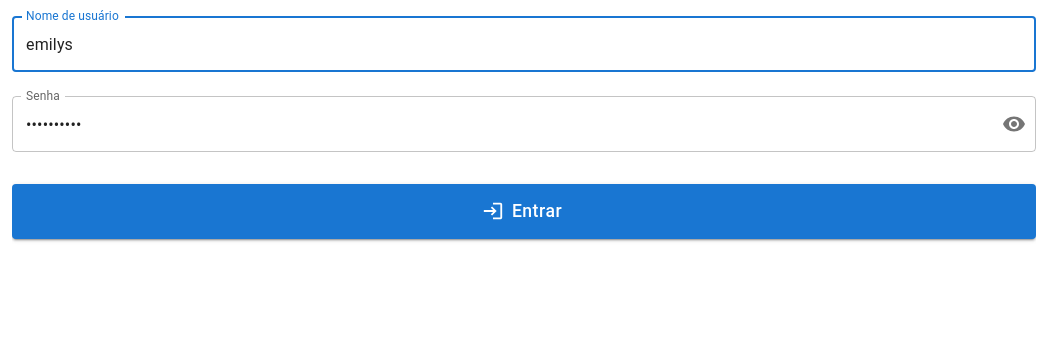
Scenario: LoginForm › clears error when form is resubmitted
First submission with error
Click the button "Entrar": x=524, y=211 [12,184,1036,239]
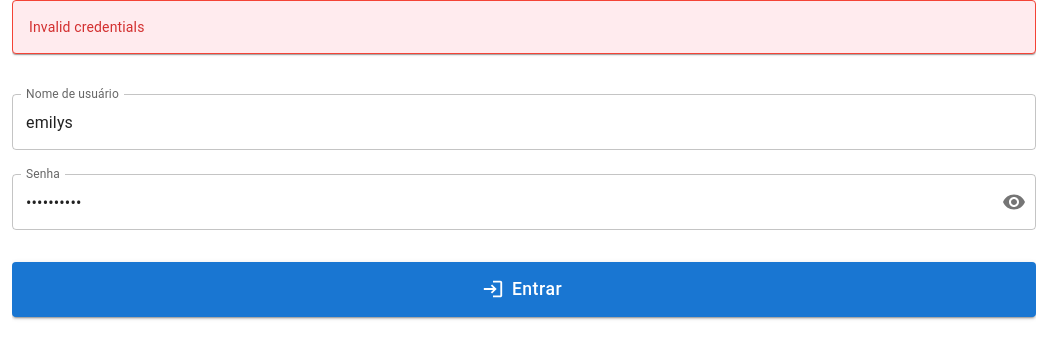
Check: the text "Invalid credentials" is shown, box [29,19,144,35]
Second submission should clear error
Click the button "Entrar": x=524, y=289 [12,262,1036,317]
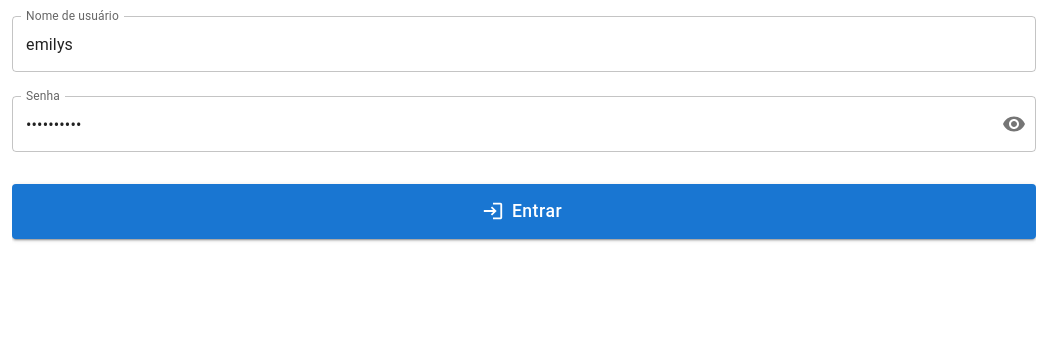
Check: the text "Invalid credentials" is gone
